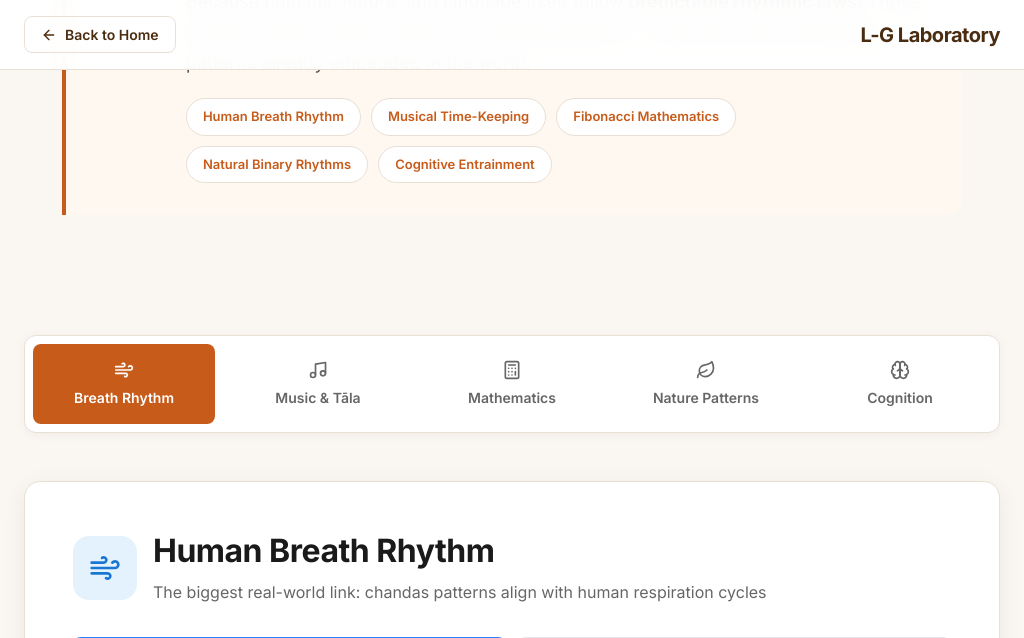
Test case: LGLab › switches to the Music & Tāla tab
The width and height of the screenshot is (1024, 638).
(page scrolled)
Click the button "Music & Tāla".
click(318, 384)  # box [227, 344, 409, 424]
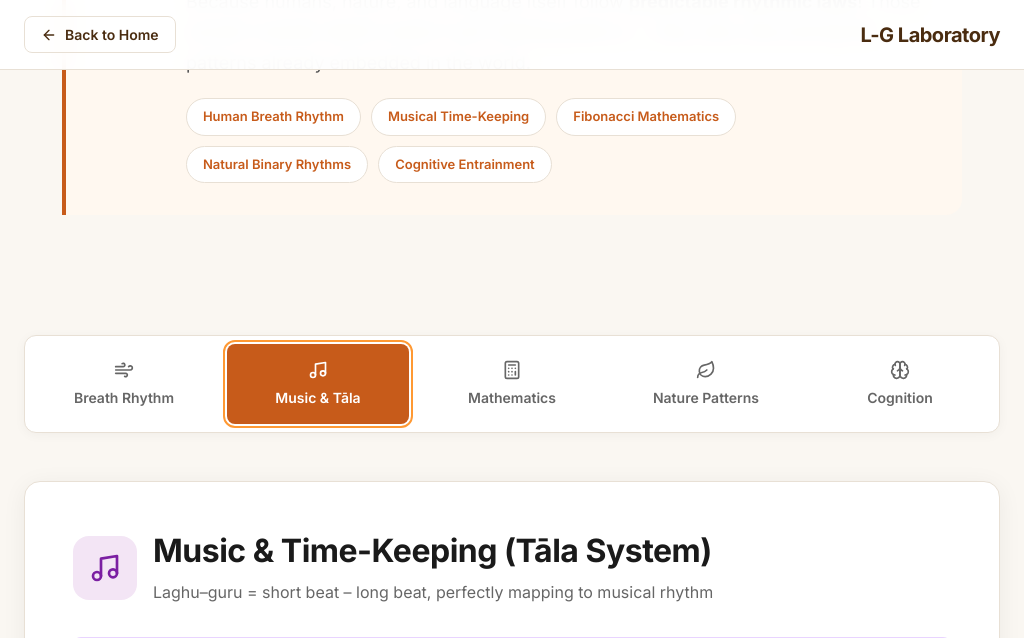
Result: the heading "Music & Time-Keeping (Tāla System)" is shown at [153, 530, 713, 572]
